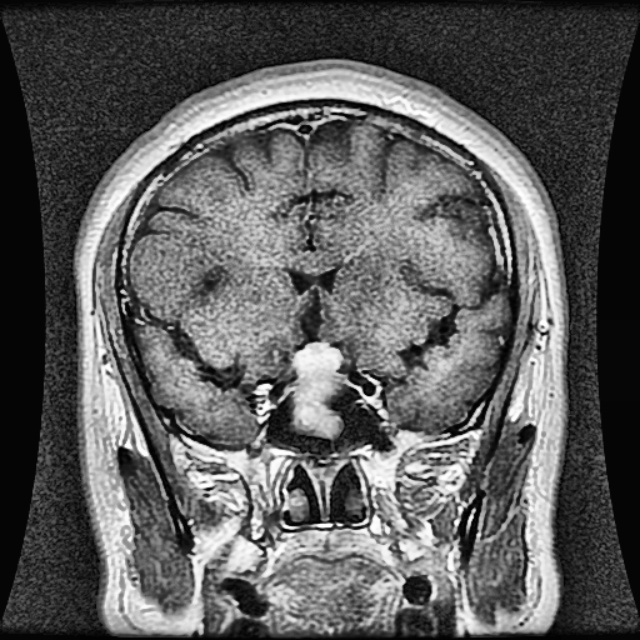Pituitary: (290, 342, 343, 435)
